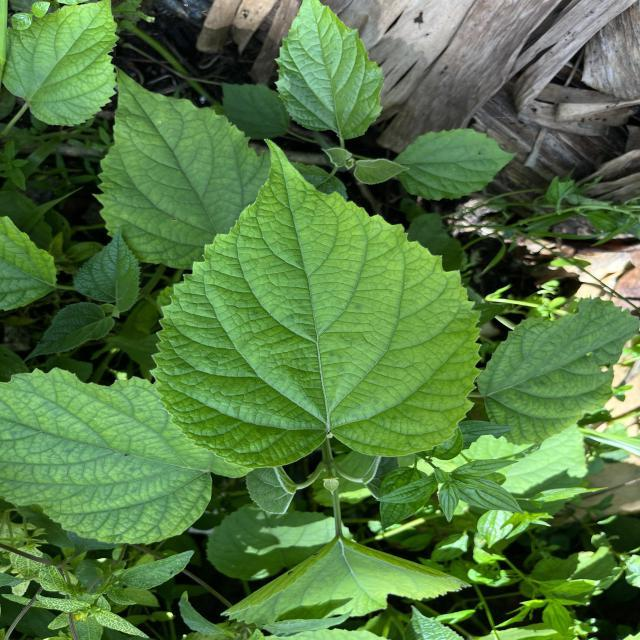Clerodendrum infortunatum: (148, 134, 486, 471), (0, 363, 254, 546), (92, 63, 264, 270), (474, 296, 640, 449)
